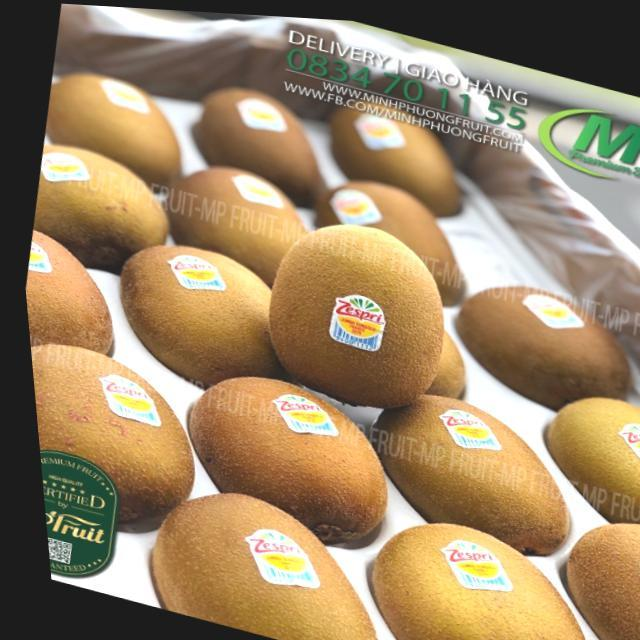kiwi: (235, 197, 466, 415), (125, 469, 398, 640), (162, 353, 395, 537), (354, 370, 571, 560), (336, 498, 609, 640), (103, 220, 309, 390), (24, 335, 208, 525), (440, 262, 640, 414), (300, 164, 477, 302), (19, 140, 185, 285), (32, 63, 196, 201), (181, 76, 344, 208), (322, 88, 475, 217), (17, 227, 127, 353), (322, 201, 459, 263)
